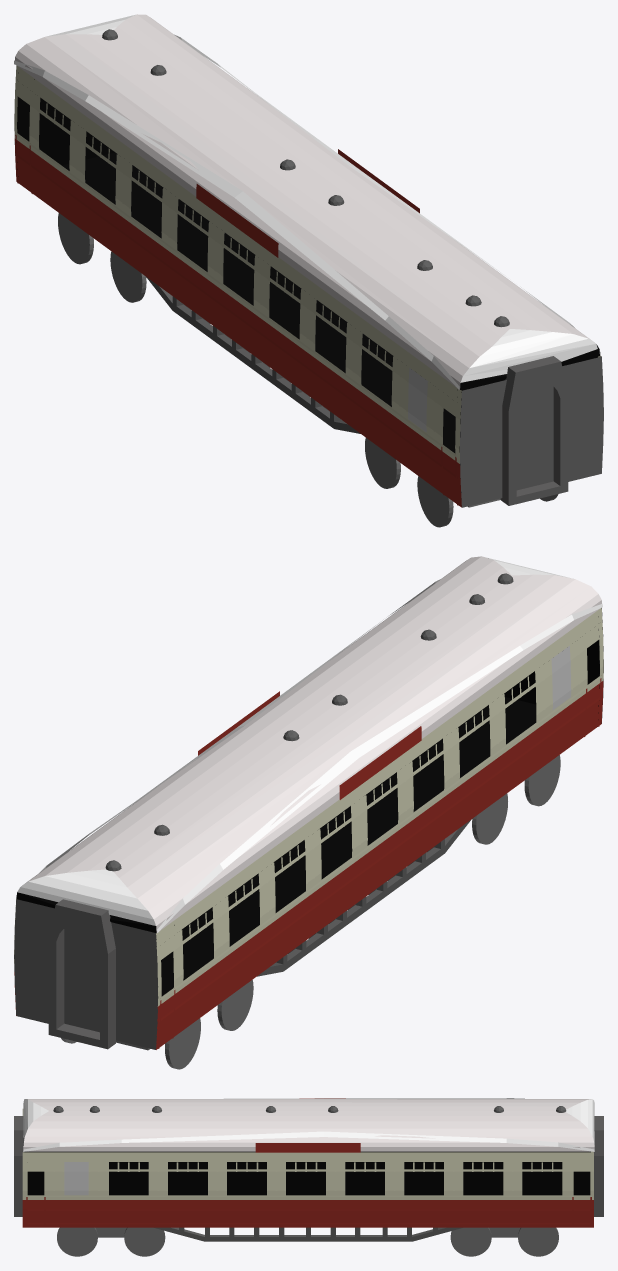
Rendered from lner-gresley-express-coach-br-cc.dae.
The picture shows the model from 3 angles, top to bottom: view 1: azimuth 30°, elevation 25°; view 2: azimuth 150°, elevation 25°; view 3: azimuth 270°, elevation 25°; orthographic projection. The views are drawn at different scales.
Parts seen in each view (by area): view 1: Suzanne_001, Plane_358, Plane_070, Plane_012, Tube_002, Suzanne_004, Plane_359, Plane_332, Plane_357, Plane_026, Plane_009, Plane_348 (+16 smaller); view 2: Suzanne_001, Plane_358, Plane_001, Plane_012, Tube_004, Suzanne_004, Plane_359, Plane_332, Plane_357, Plane_009, Plane_348, Plane_349 (+16 smaller); view 3: Suzanne_001, Plane_007, Plane_019, Plane_158, Plane_006, Suzanne_003, Plane_005, Plane_079, Plane_077, Plane_078, Plane_103, Cylinder_001 (+25 smaller).
Part boxes in pixels (left/top/right/bottom): Suzanne_001: left=15, top=14, right=599, bottom=389; Plane_358: left=14, top=138, right=461, bottom=507; Plane_070: left=460, top=356, right=603, bottom=507; Plane_012: left=62, top=152, right=461, bottom=498; Tube_002: left=500, top=356, right=568, bottom=505; Suzanne_004: left=14, top=60, right=459, bottom=389; Plane_359: left=15, top=72, right=461, bottom=404; Plane_332: left=34, top=79, right=440, bottom=381; Plane_357: left=14, top=131, right=459, bottom=463; Plane_026: left=16, top=72, right=114, bottom=176; Plane_009: left=196, top=184, right=278, bottom=257; Plane_348: left=15, top=132, right=456, bottom=456; Suzanne_001: left=16, top=556, right=601, bottom=933; Plane_358: left=156, top=681, right=603, bottom=1049; Plane_001: left=14, top=899, right=158, bottom=1049; Plane_012: left=161, top=697, right=536, bottom=996; Tube_004: left=48, top=899, right=115, bottom=1049; Suzanne_004: left=157, top=603, right=602, bottom=932; Plane_359: left=156, top=614, right=602, bottom=947; Plane_332: left=174, top=623, right=580, bottom=926; Plane_357: left=157, top=673, right=603, bottom=1006; Plane_009: left=339, top=726, right=421, bottom=799; Plane_348: left=160, top=676, right=601, bottom=1000; Plane_349: left=159, top=698, right=599, bottom=1021; Suzanne_001: left=23, top=1099, right=594, bottom=1151; Plane_007: left=22, top=1200, right=593, bottom=1227; Plane_019: left=24, top=1151, right=590, bottom=1195; Plane_158: left=50, top=1152, right=570, bottom=1157; Plane_006: left=22, top=1157, right=593, bottom=1161; Suzanne_003: left=23, top=1131, right=594, bottom=1151; Plane_005: left=22, top=1195, right=593, bottom=1199; Plane_079: left=26, top=1195, right=591, bottom=1196; Plane_077: left=27, top=1209, right=590, bottom=1210; Plane_078: left=27, top=1223, right=590, bottom=1224; Plane_103: left=255, top=1143, right=360, bottom=1152; Cylinder_001: left=57, top=1227, right=97, bottom=1256.
Size of the model in its own units: 2.08 by 11.39 by 2.82.
